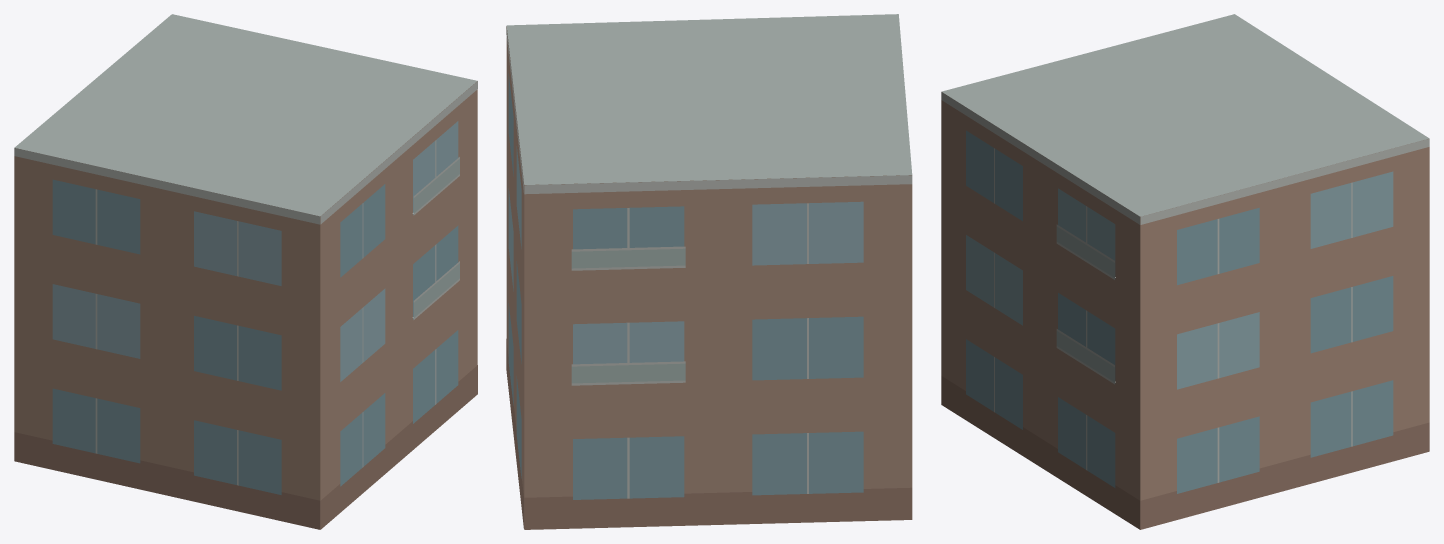
Rendered from survey-upis-32750186.glb.
3 views of the same model, side by side, from view 1: azimuth 30°, elevation 25°; view 2: azimuth 150°, elevation 25°; view 3: azimuth 270°, elevation 25° (orthographic). The views are drawn at different scales.
Parts seen in each view (by area): view 1: survey-upis-32750186.tmp; view 2: survey-upis-32750186.tmp; view 3: survey-upis-32750186.tmp.
Boxes of the visible parts, x1,y1,x2,y2 form: survey-upis-32750186.tmp: [14, 14, 477, 529]; survey-upis-32750186.tmp: [506, 14, 912, 529]; survey-upis-32750186.tmp: [941, 14, 1429, 529].
Size of the model in its own units: 12.79 by 9.2 by 13.01.
